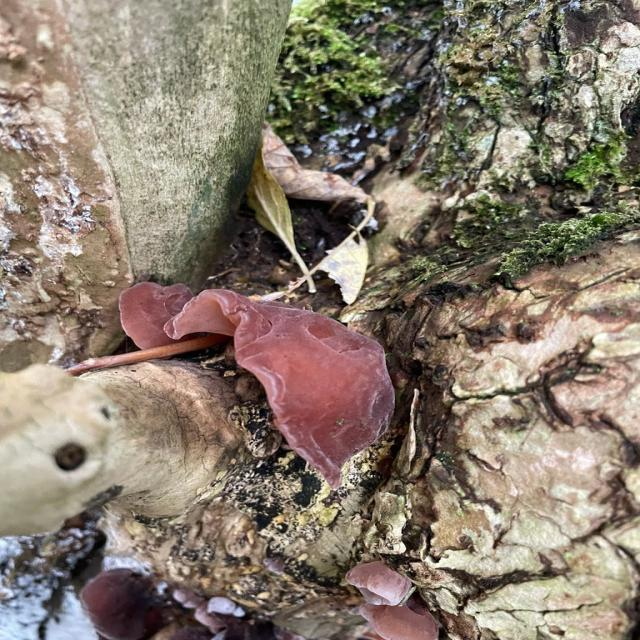Matang: (111, 281, 398, 491), (341, 559, 413, 607), (354, 604, 450, 640)
